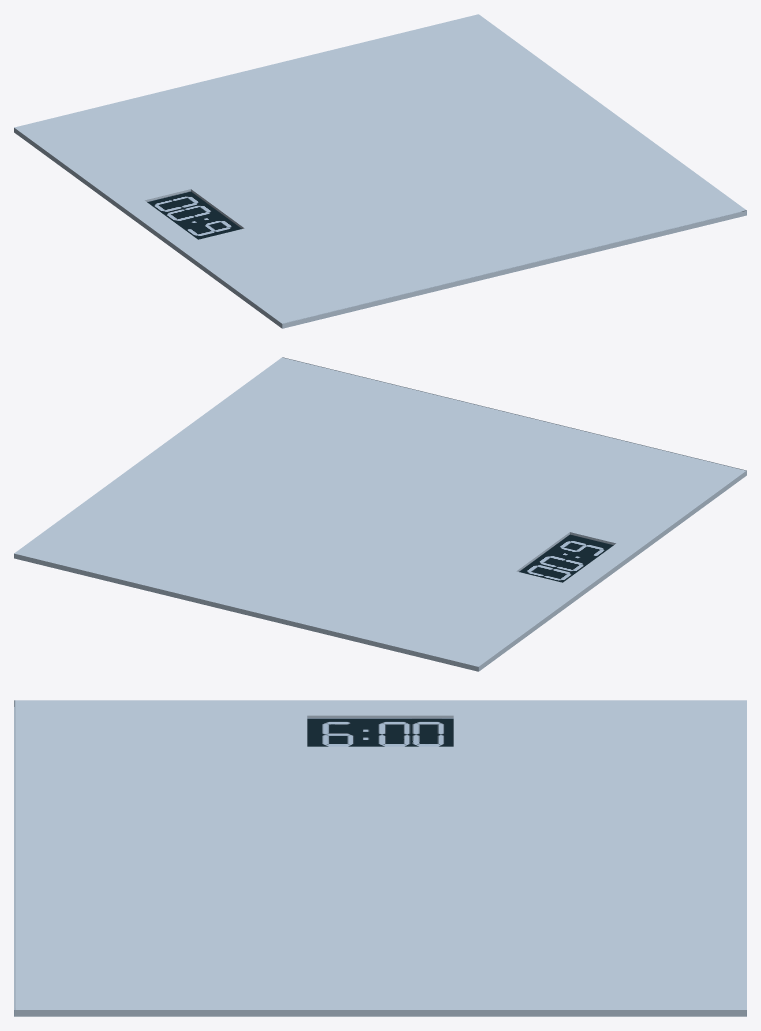
The model's file is Bascule.FBX.
The picture shows the model from 3 angles, top to bottom: view 1: azimuth 30°, elevation 25°; view 2: azimuth 150°, elevation 25°; view 3: azimuth 270°, elevation 25°; orthographic projection. The views are drawn at different scales.
Parts seen in each view (by area): view 1: Báscula, Screen; view 2: Báscula, Screen; view 3: Báscula, Screen.
Boxes of the visible parts, box(x1,y1,x2,y2) form: Báscula: box(14, 14, 746, 328); Screen: box(147, 191, 241, 239); Báscula: box(14, 357, 746, 671); Screen: box(519, 534, 613, 582); Báscula: box(14, 700, 746, 1016); Screen: box(307, 719, 453, 746).
Bounding box in the file's own units: 1 × 0.03 × 1.
4 materials, 3 textured.
